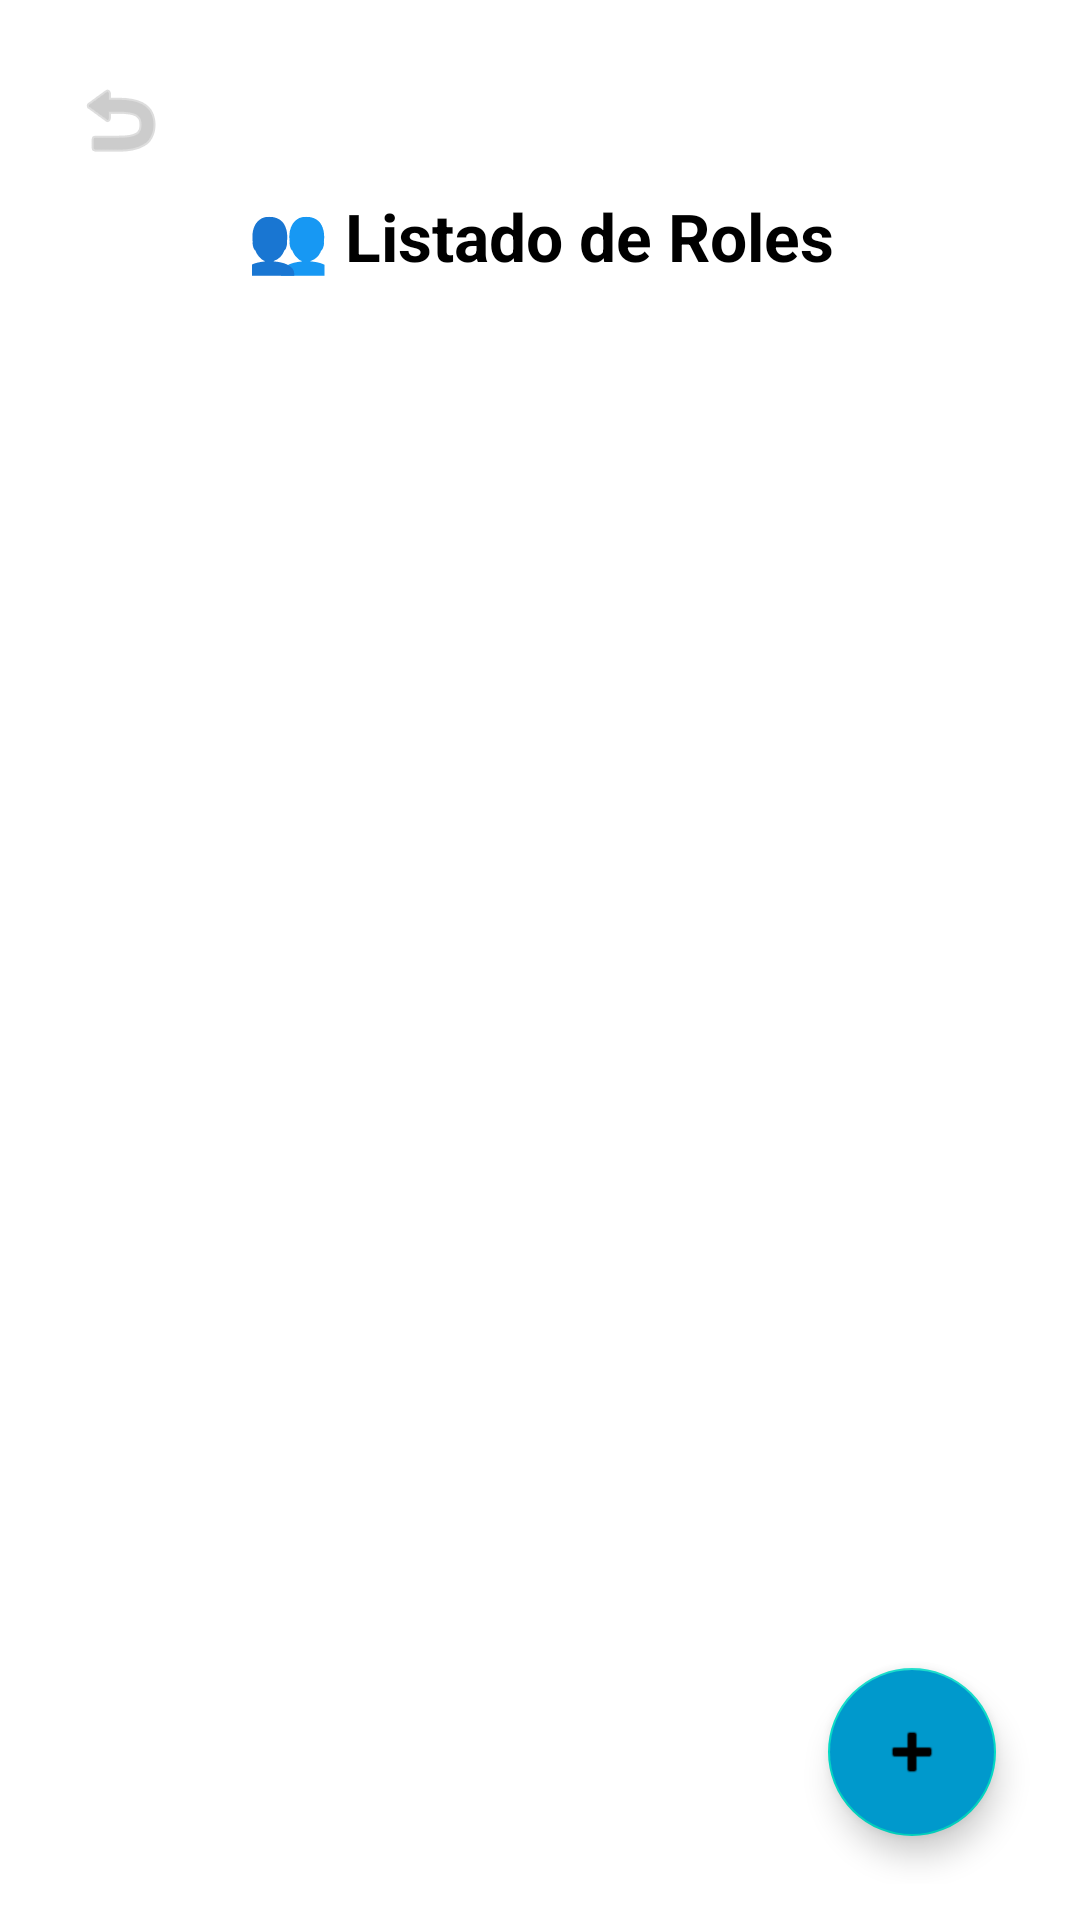

Icon click points for this 1080w x 1920h phone screenshot, format (x=x, y=y):
Agregar rol: (x=912, y=1752)
Volver: (x=121, y=120)
